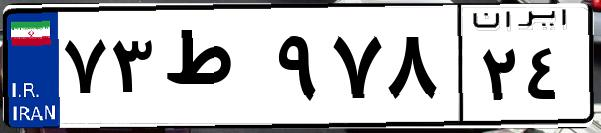2: (475, 38, 525, 113)
3: (110, 28, 158, 98)
4: (525, 38, 570, 115)
7: (330, 28, 385, 110), (57, 26, 110, 100)
8: (385, 28, 445, 110)
9: (270, 28, 330, 110)
ط: (158, 20, 270, 120)
